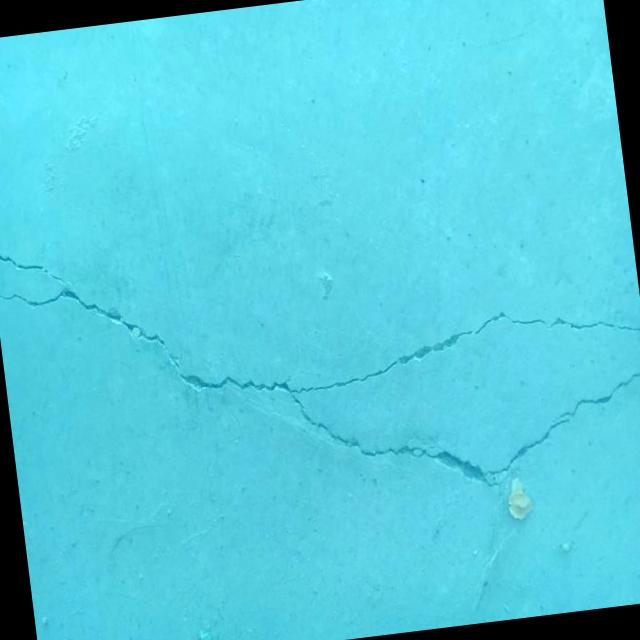crack: (0, 173, 640, 544)
